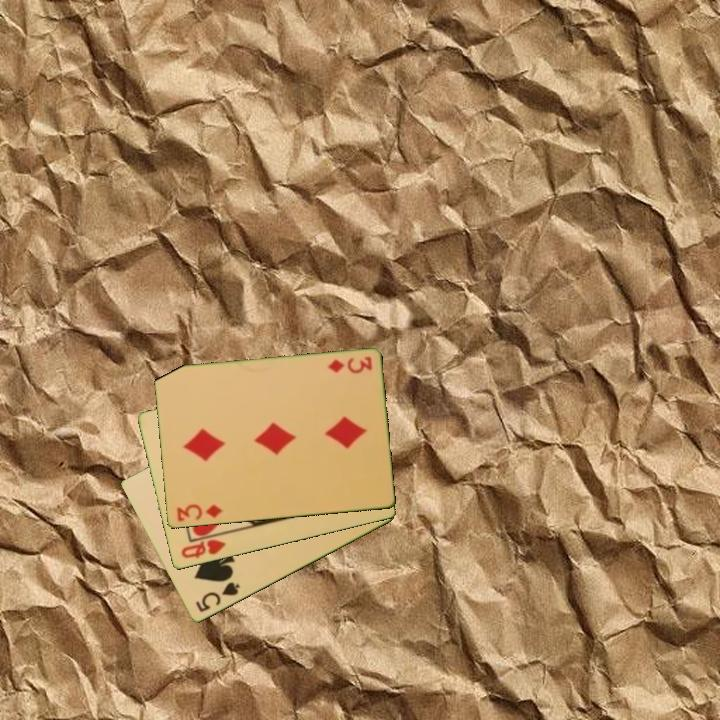3d: (173, 501, 225, 524), (324, 353, 375, 376)
5s: (192, 579, 243, 615)
Qh: (177, 536, 228, 562)
